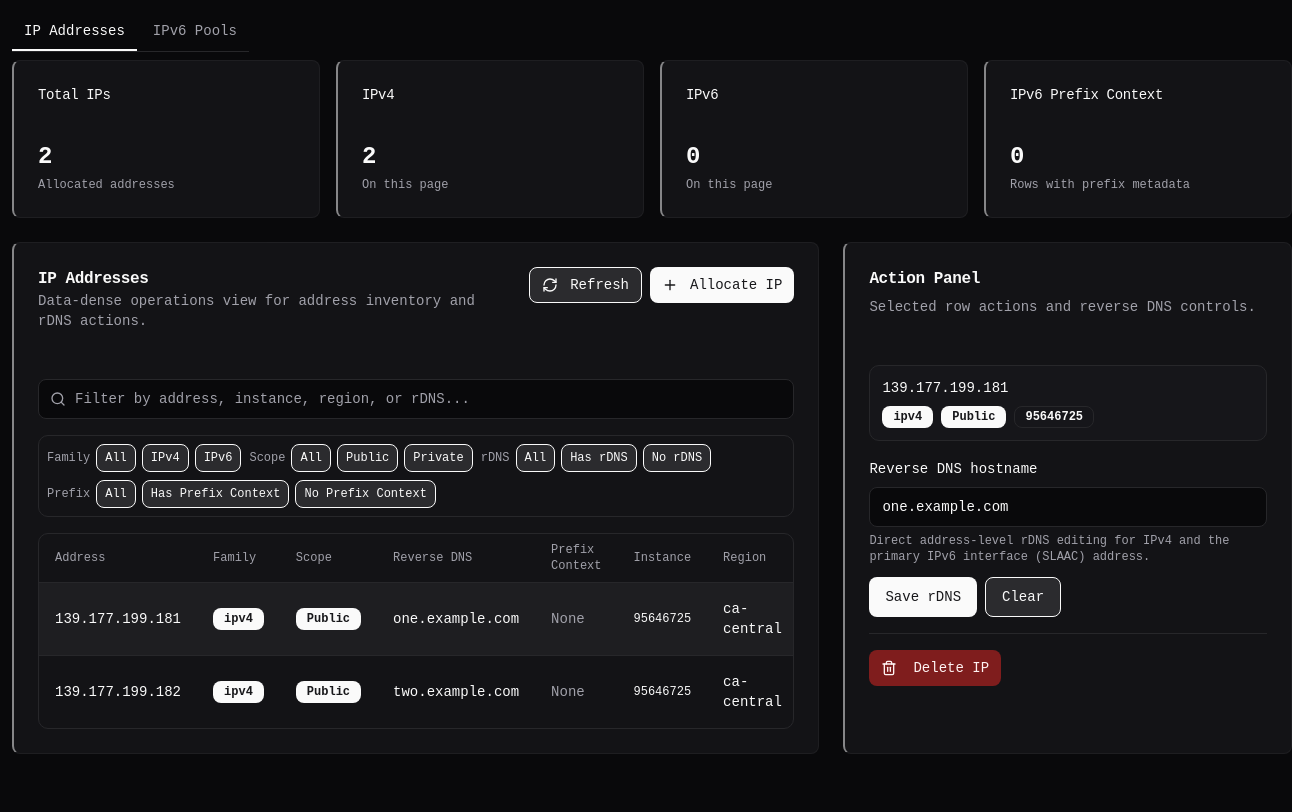
it: IPAddressTable › resets direct rDNS state when switching selected rows
Expected: the text "139.177.199.181" is shown, [39,582,197,655]
Replace the text in the field labelled "Reverse DNS hostname" with "edited-value.example.com" at (1068, 507), box [869,487,1267,527]
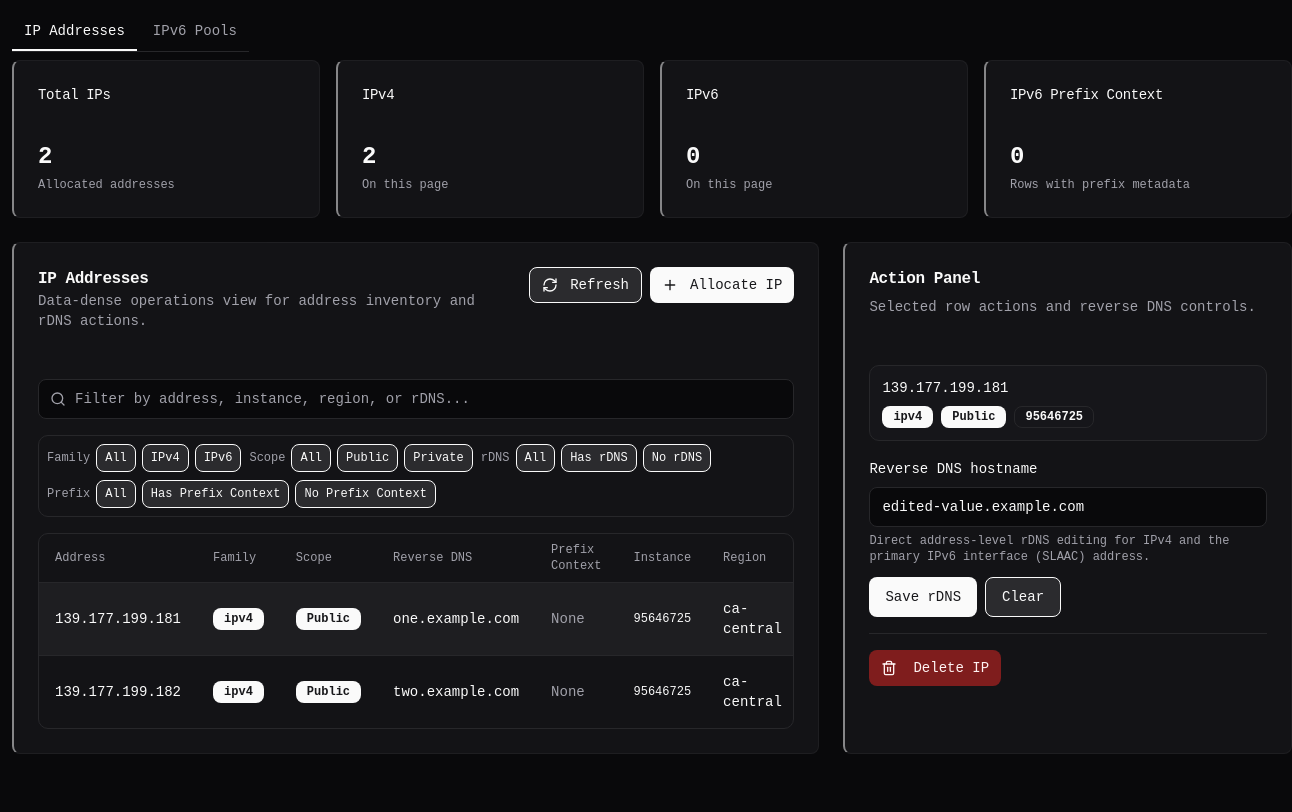
Click the text "139.177.199.182".
click(118, 691)  # box [39,655,197,728]
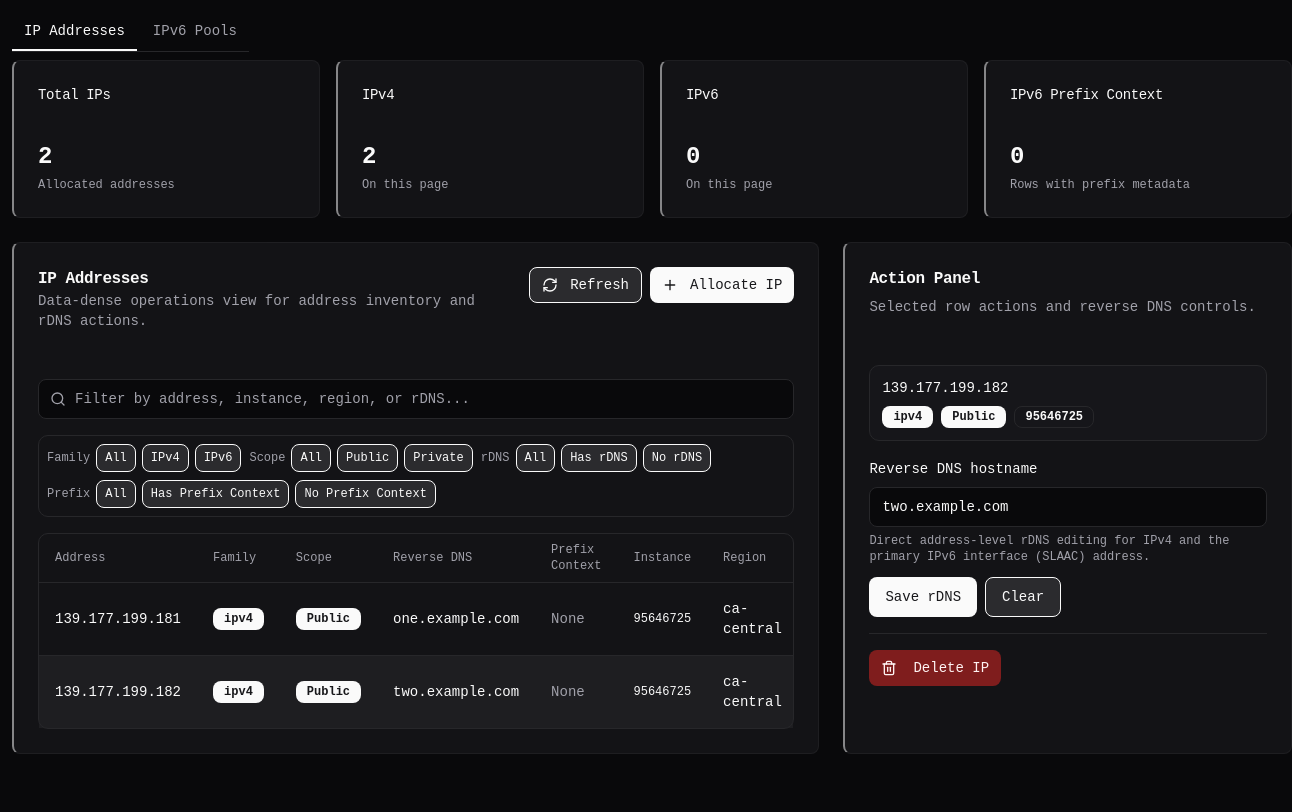
Now the field labelled "Reverse DNS hostname" holds "two.example.com", box [869,487,1267,527]
